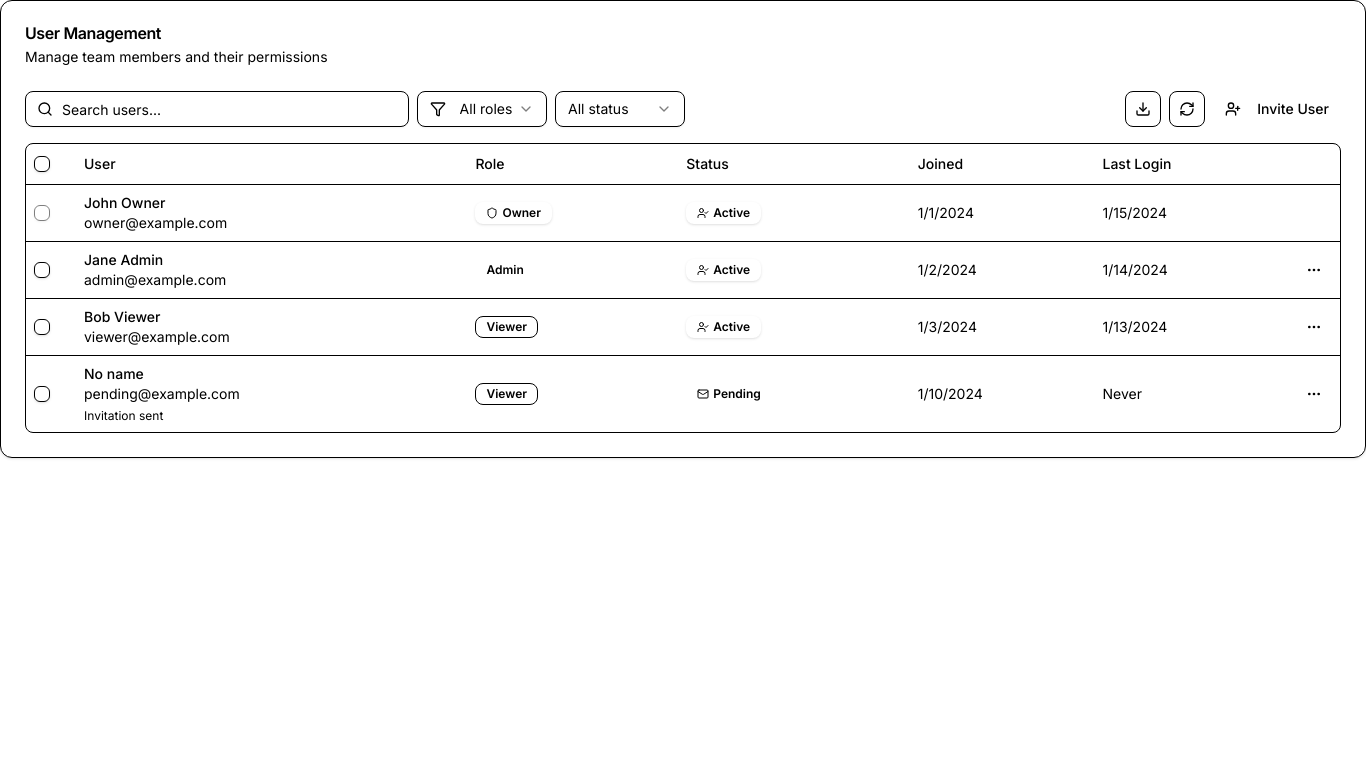
Test: UserManagement › User Invitation › should validate email format in invite form
Click the button "Invite User" at (1277, 109), box [1213, 91, 1341, 127]
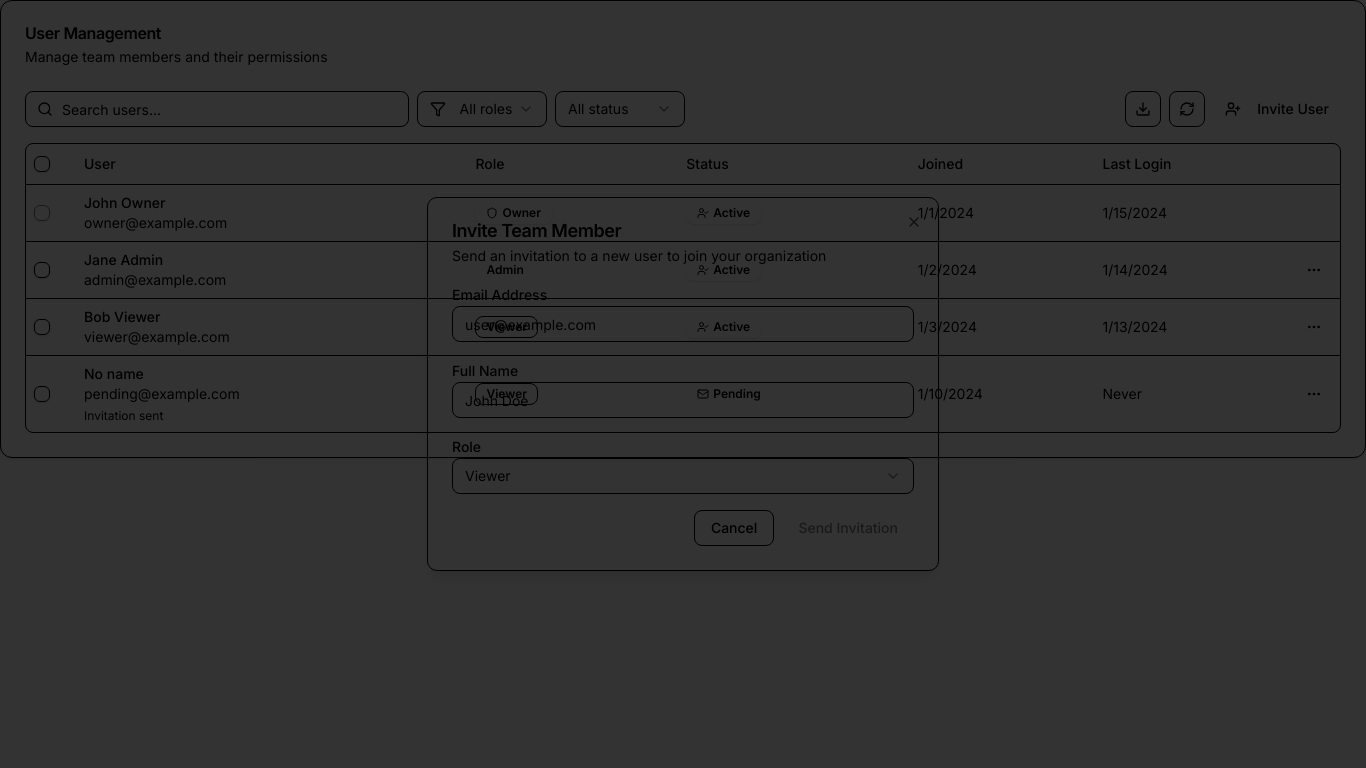
# Test invalid email
Type "invalid-email" into the field labelled "Email Address" at (683, 324), box [452, 306, 914, 342]
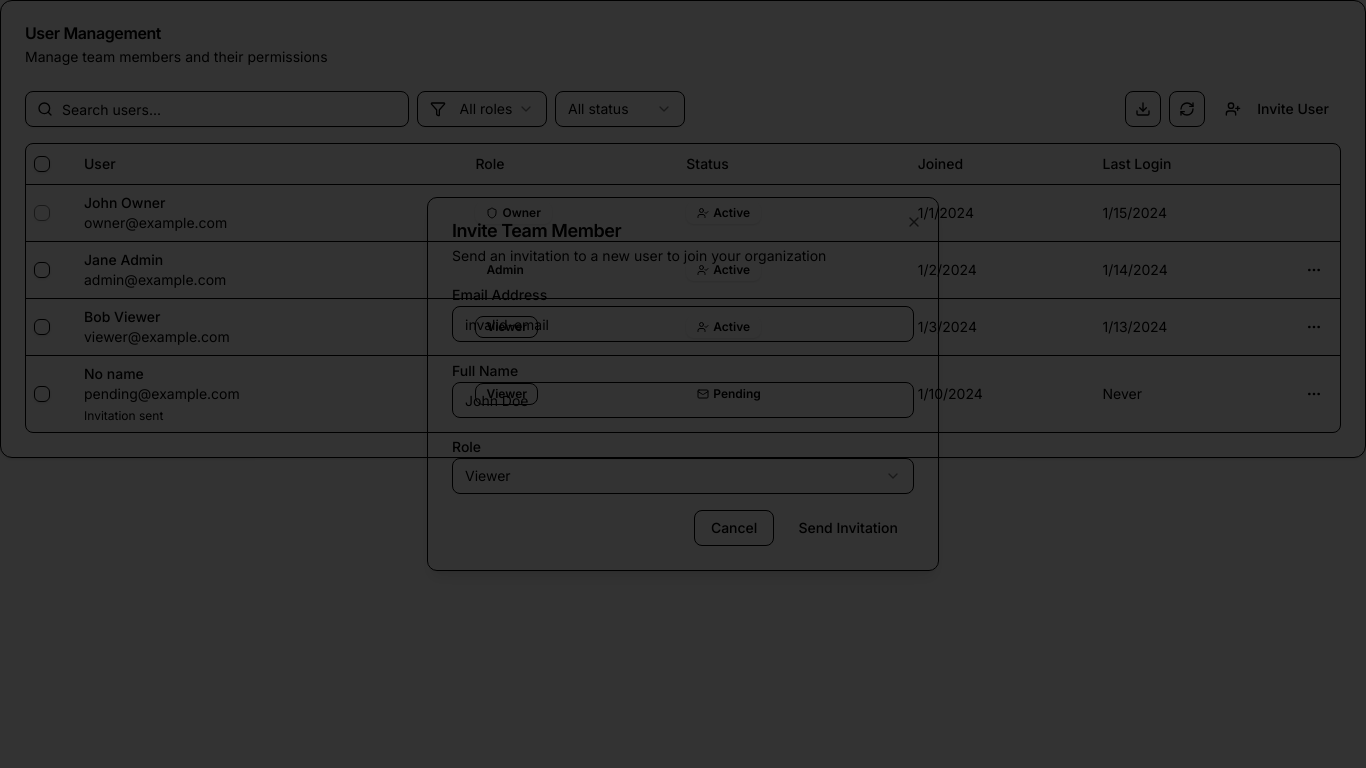
Click the button "Send Invitation" at (848, 528), box [782, 510, 914, 546]
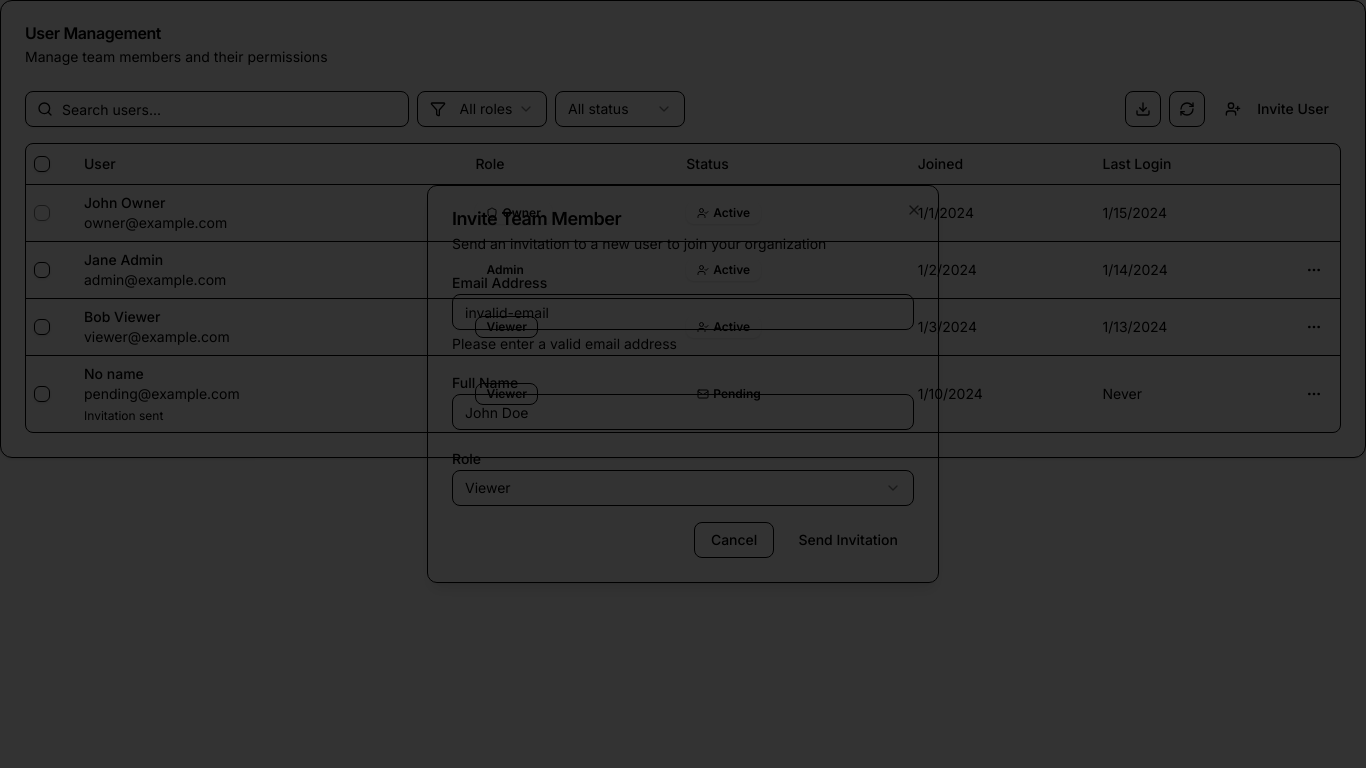
Result: the text "Please enter a valid email address" is shown at [452, 335, 677, 352]
